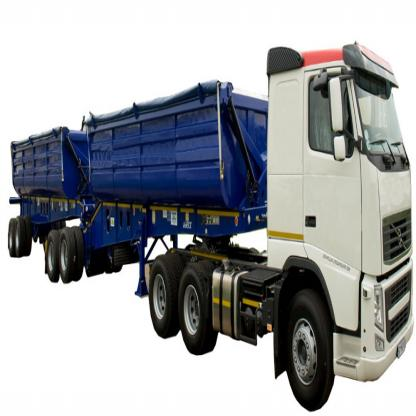dump_truck: (2, 31, 416, 415)
